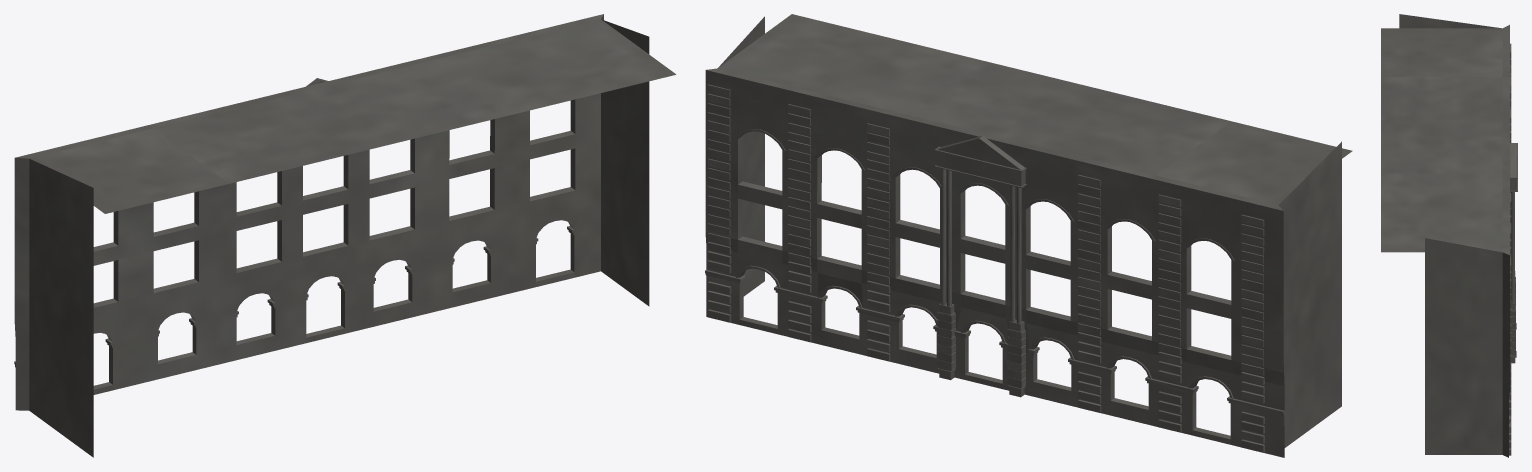
The model's file is 26_04_2020_fachada.fbx.
The picture shows the model from 3 angles, left to right: view 1: azimuth 30°, elevation 25°; view 2: azimuth 150°, elevation 25°; view 3: azimuth 270°, elevation 25°; orthographic projection. The views are drawn at different scales.
Visible parts, largest first — view 1: Cube.030; view 2: Cube.030; view 3: Cube.030.
Boxes of the visible parts, <box> form: Cube.030: <box>14,14,676,457</box>; Cube.030: <box>705,14,1352,457</box>; Cube.030: <box>1381,14,1517,457</box>.
Bounding box in the file's own units: 8761 × 3837 × 2196.
